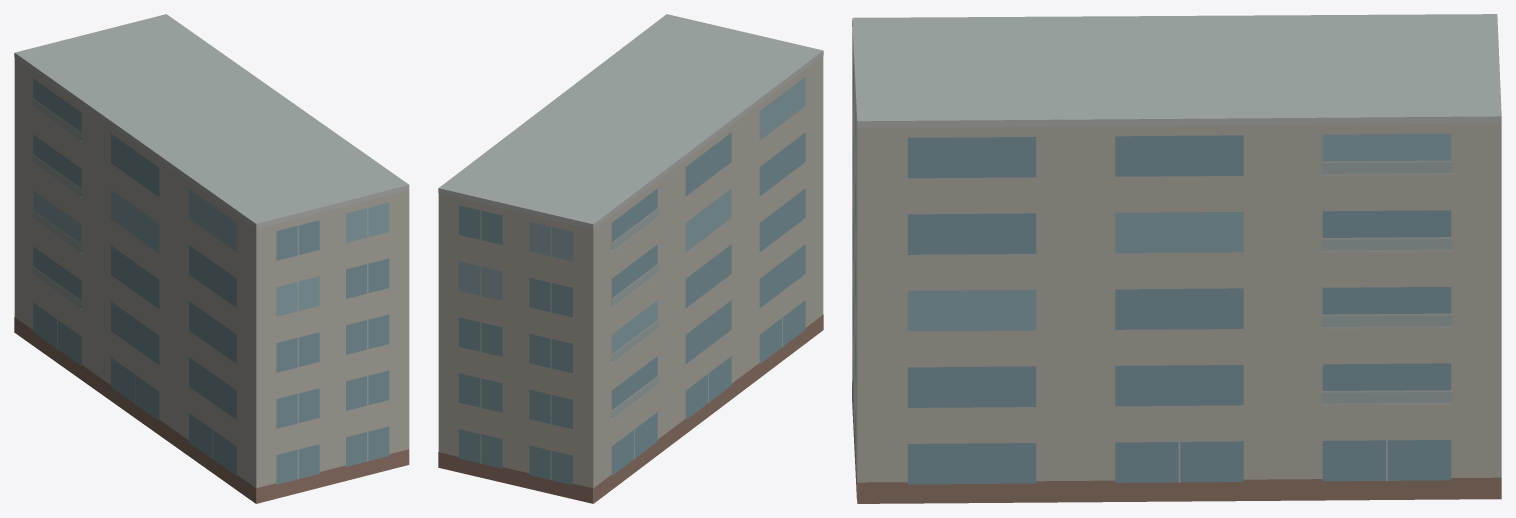
The model's file is survey-upis-32920369.glb.
3 views of the same model, side by side, from view 1: azimuth 30°, elevation 25°; view 2: azimuth 150°, elevation 25°; view 3: azimuth 270°, elevation 25° (orthographic). The views are drawn at different scales.
Visible parts, largest first — view 1: survey-upis-32920369.tmp; view 2: survey-upis-32920369.tmp; view 3: survey-upis-32920369.tmp.
Boxes of the visible parts, x1,y1,x2,y2 form: survey-upis-32920369.tmp: (14, 14, 409, 503); survey-upis-32920369.tmp: (438, 14, 823, 503); survey-upis-32920369.tmp: (852, 14, 1501, 503).
Bounding box in the file's own units: 8.01 × 13.3 × 20.47.
